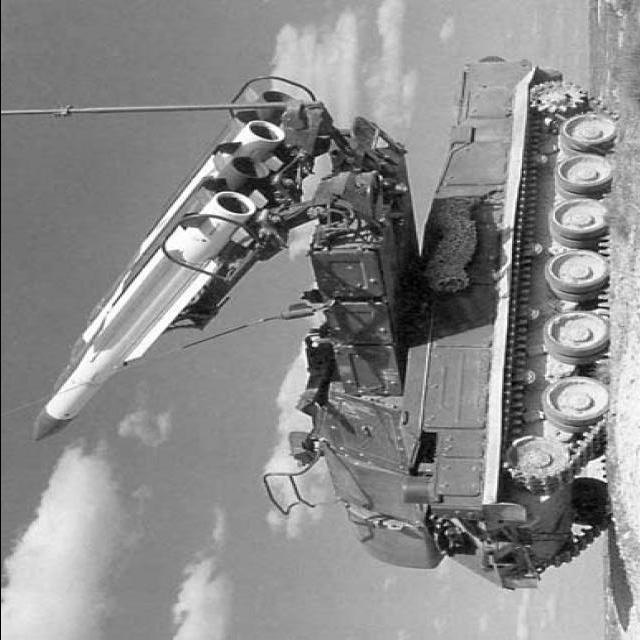missile: (20, 179, 257, 489)
